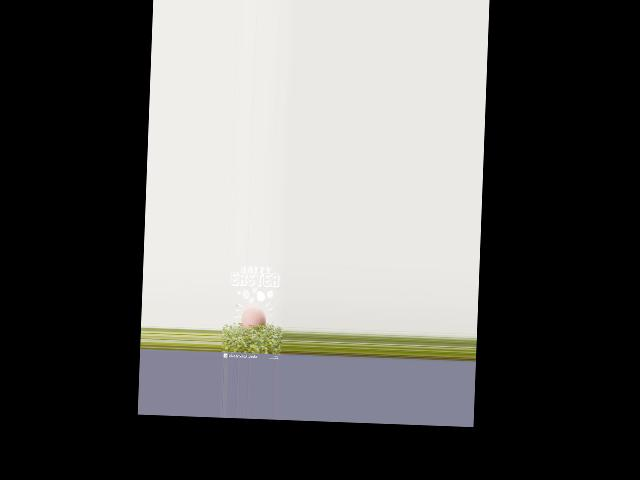egg: (242, 304, 267, 329)
